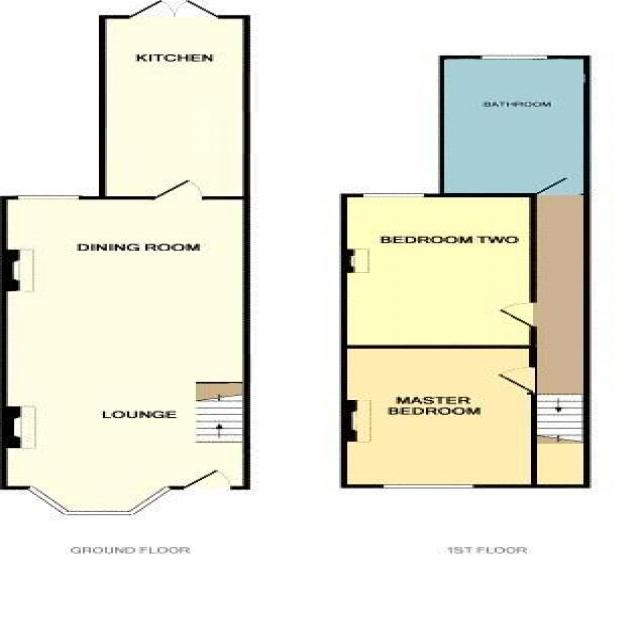DOOR: (149, 177, 205, 201), (493, 365, 538, 394), (494, 301, 538, 329), (534, 173, 586, 196), (182, 468, 232, 490)
DOUBLE DOOR: (127, 0, 220, 19)
ROOM: (0, 178, 251, 516), (339, 193, 538, 349), (97, 0, 251, 200), (338, 345, 538, 489)
WINDOW: (23, 484, 175, 516), (480, 54, 550, 61), (382, 484, 476, 489), (361, 192, 426, 198)
